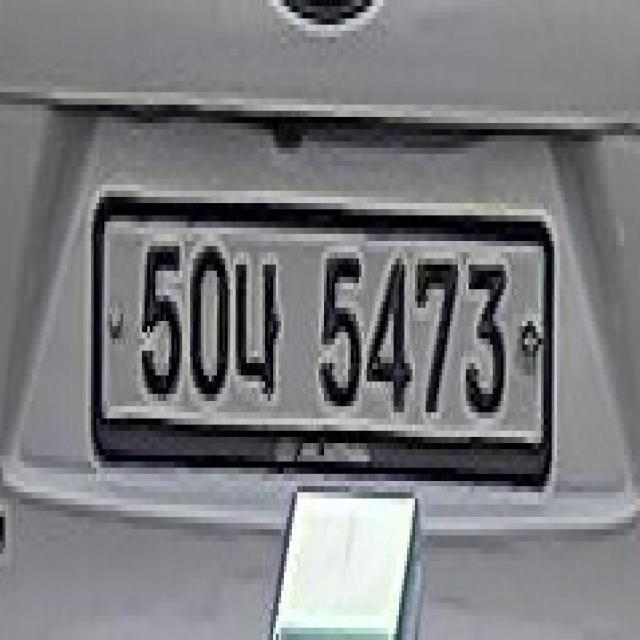0: (190, 239, 230, 405)
3: (464, 256, 511, 428)
4: (368, 251, 412, 428)
5: (312, 250, 363, 418), (135, 237, 185, 401)
7: (414, 255, 459, 422)
license_plate: (82, 198, 562, 495)
na: (234, 246, 286, 416)
